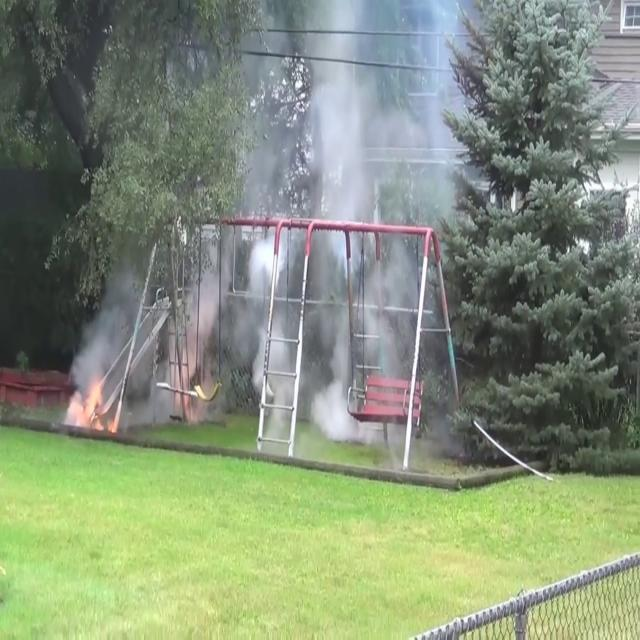Fire: (70, 369, 110, 437)
Smoke: (228, 5, 474, 431), (69, 231, 238, 402)
